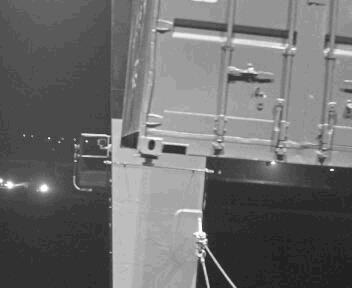twist_lock_1: (134, 153, 162, 176)
